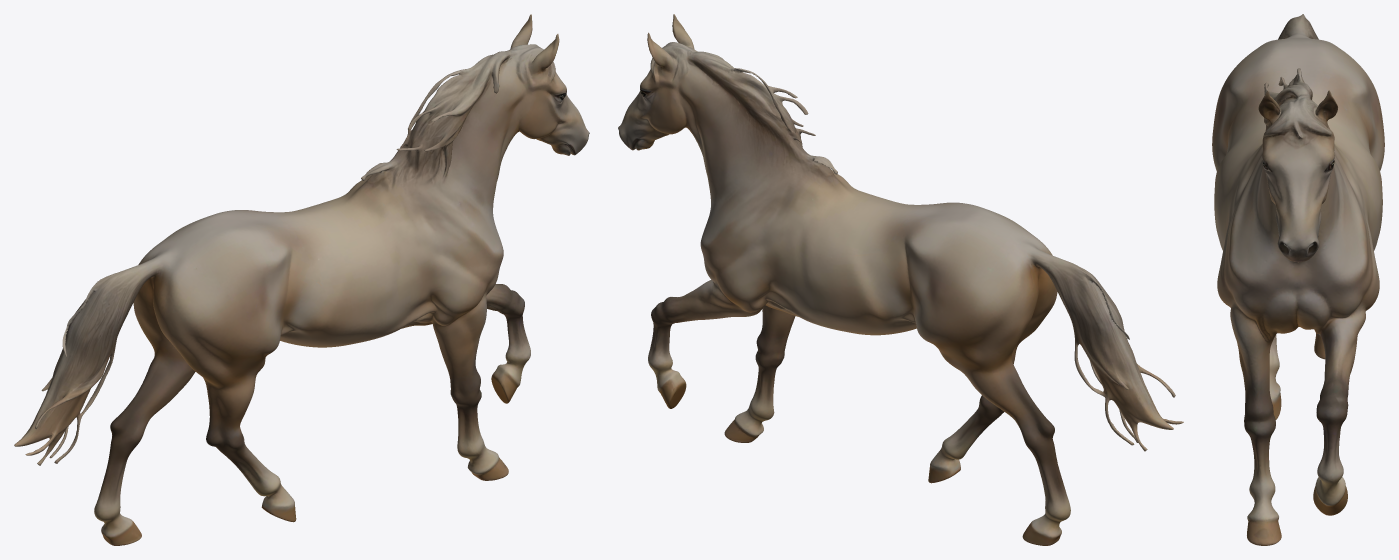
The model's file is horse 02a ji4 4d645366.fbx.
3 views of the same model, side by side, from view 1: azimuth 30°, elevation 25°; view 2: azimuth 150°, elevation 25°; view 3: azimuth 270°, elevation 25° (orthographic). The views are drawn at different scales.
Visible parts, largest first — view 1: tripo_node_e27f8612; view 2: tripo_node_e27f8612; view 3: tripo_node_e27f8612.
Boxes of the visible parts, box(x1,y1,x2,y2) form: tripo_node_e27f8612: box(14, 14, 589, 545); tripo_node_e27f8612: box(618, 14, 1183, 545); tripo_node_e27f8612: box(1212, 14, 1384, 545).
Size of the model in its own units: 0.9998 by 0.7129 by 0.2278.
Materials: 1 (1 with a texture image).
